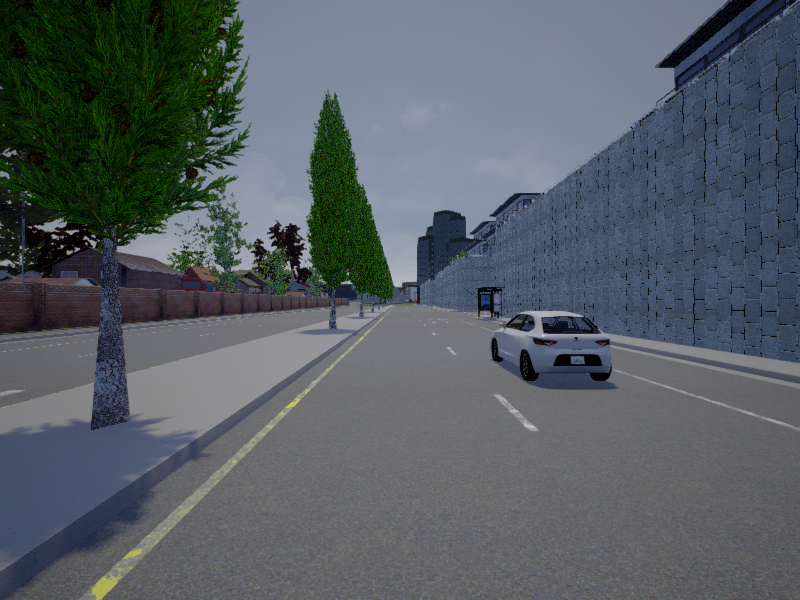Benign: (491, 310, 615, 385)
